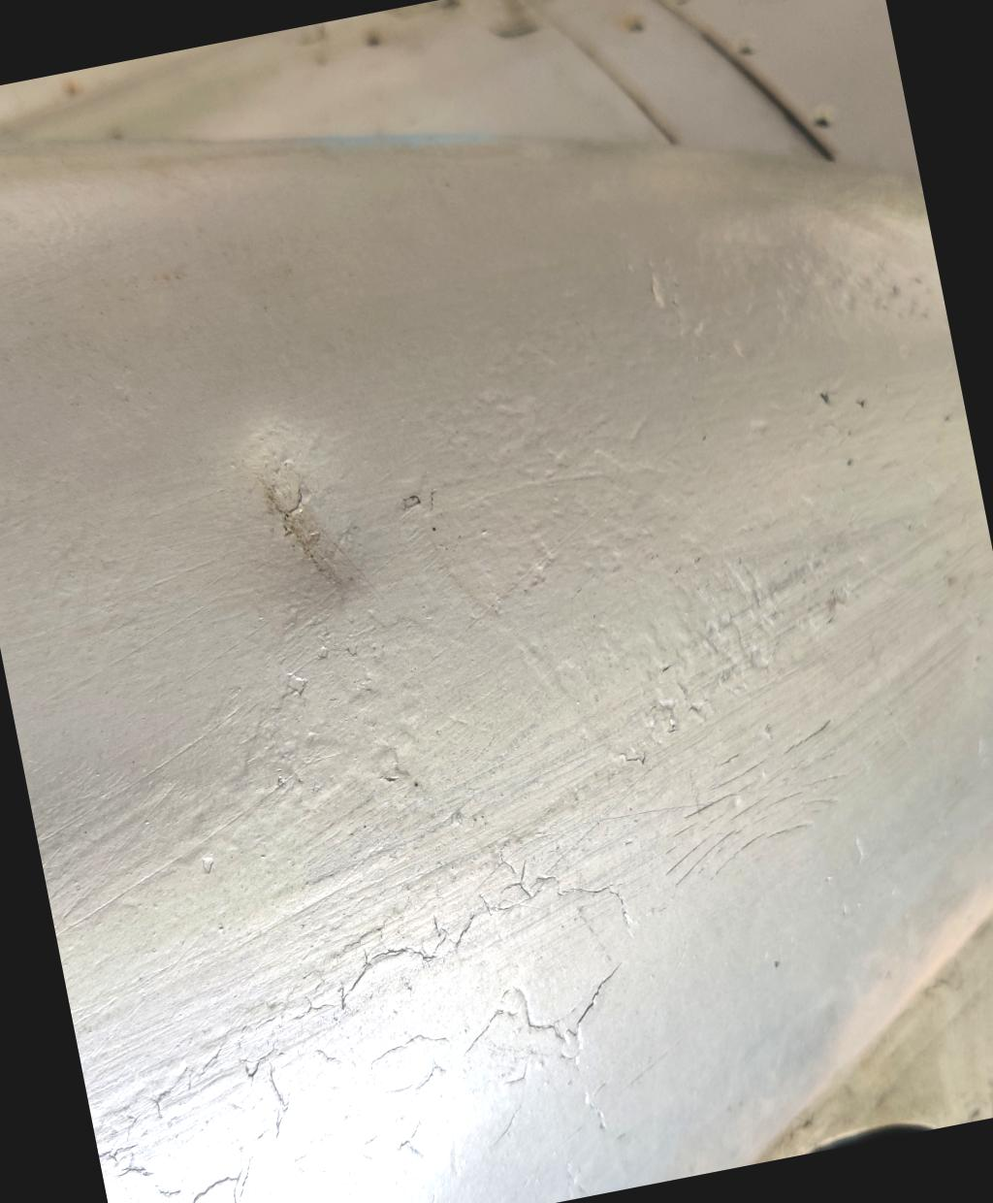dent: (174, 381, 421, 666)
